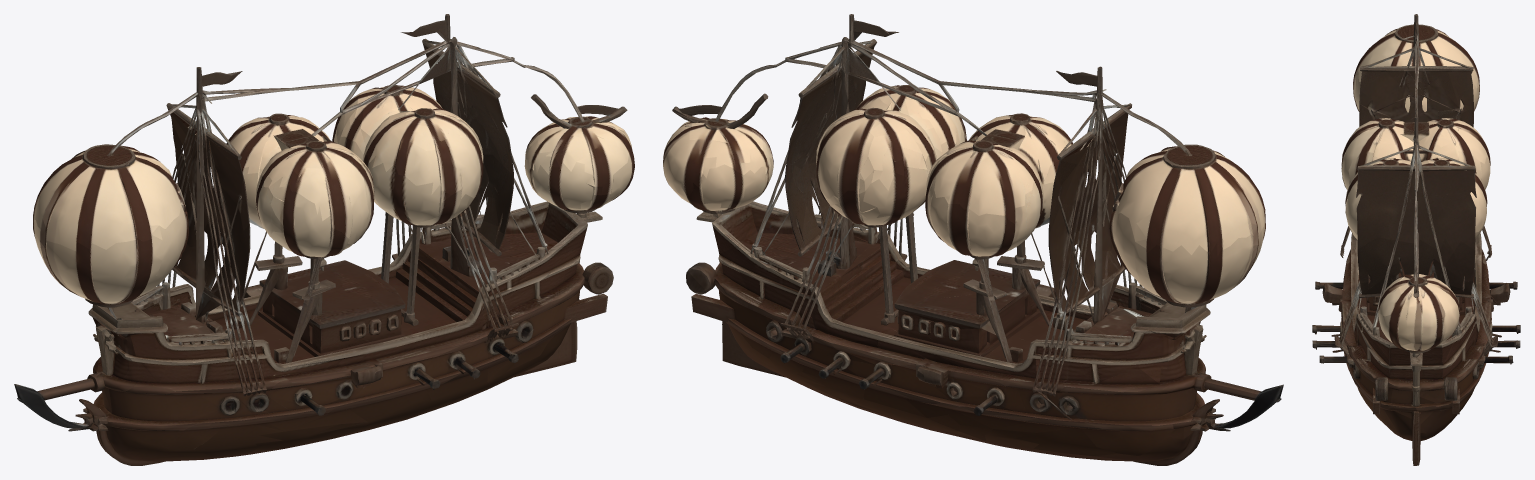
3 renders of one model, left to right at view 1: azimuth 30°, elevation 25°; view 2: azimuth 150°, elevation 25°; view 3: azimuth 270°, elevation 25°, orthographic. The views are drawn at different scales.
Parts seen in each view (by area): view 1: Mesh_0; view 2: Mesh_0; view 3: Mesh_0.
Boxes of the visible parts, x1,y1,x2,y2 form: Mesh_0: [14, 14, 634, 465]; Mesh_0: [663, 14, 1283, 465]; Mesh_0: [1312, 14, 1520, 465].
Bounding box in the file's own units: 1.9 × 1.14 × 0.7051.
Materials: 1 (1 with a texture image).
